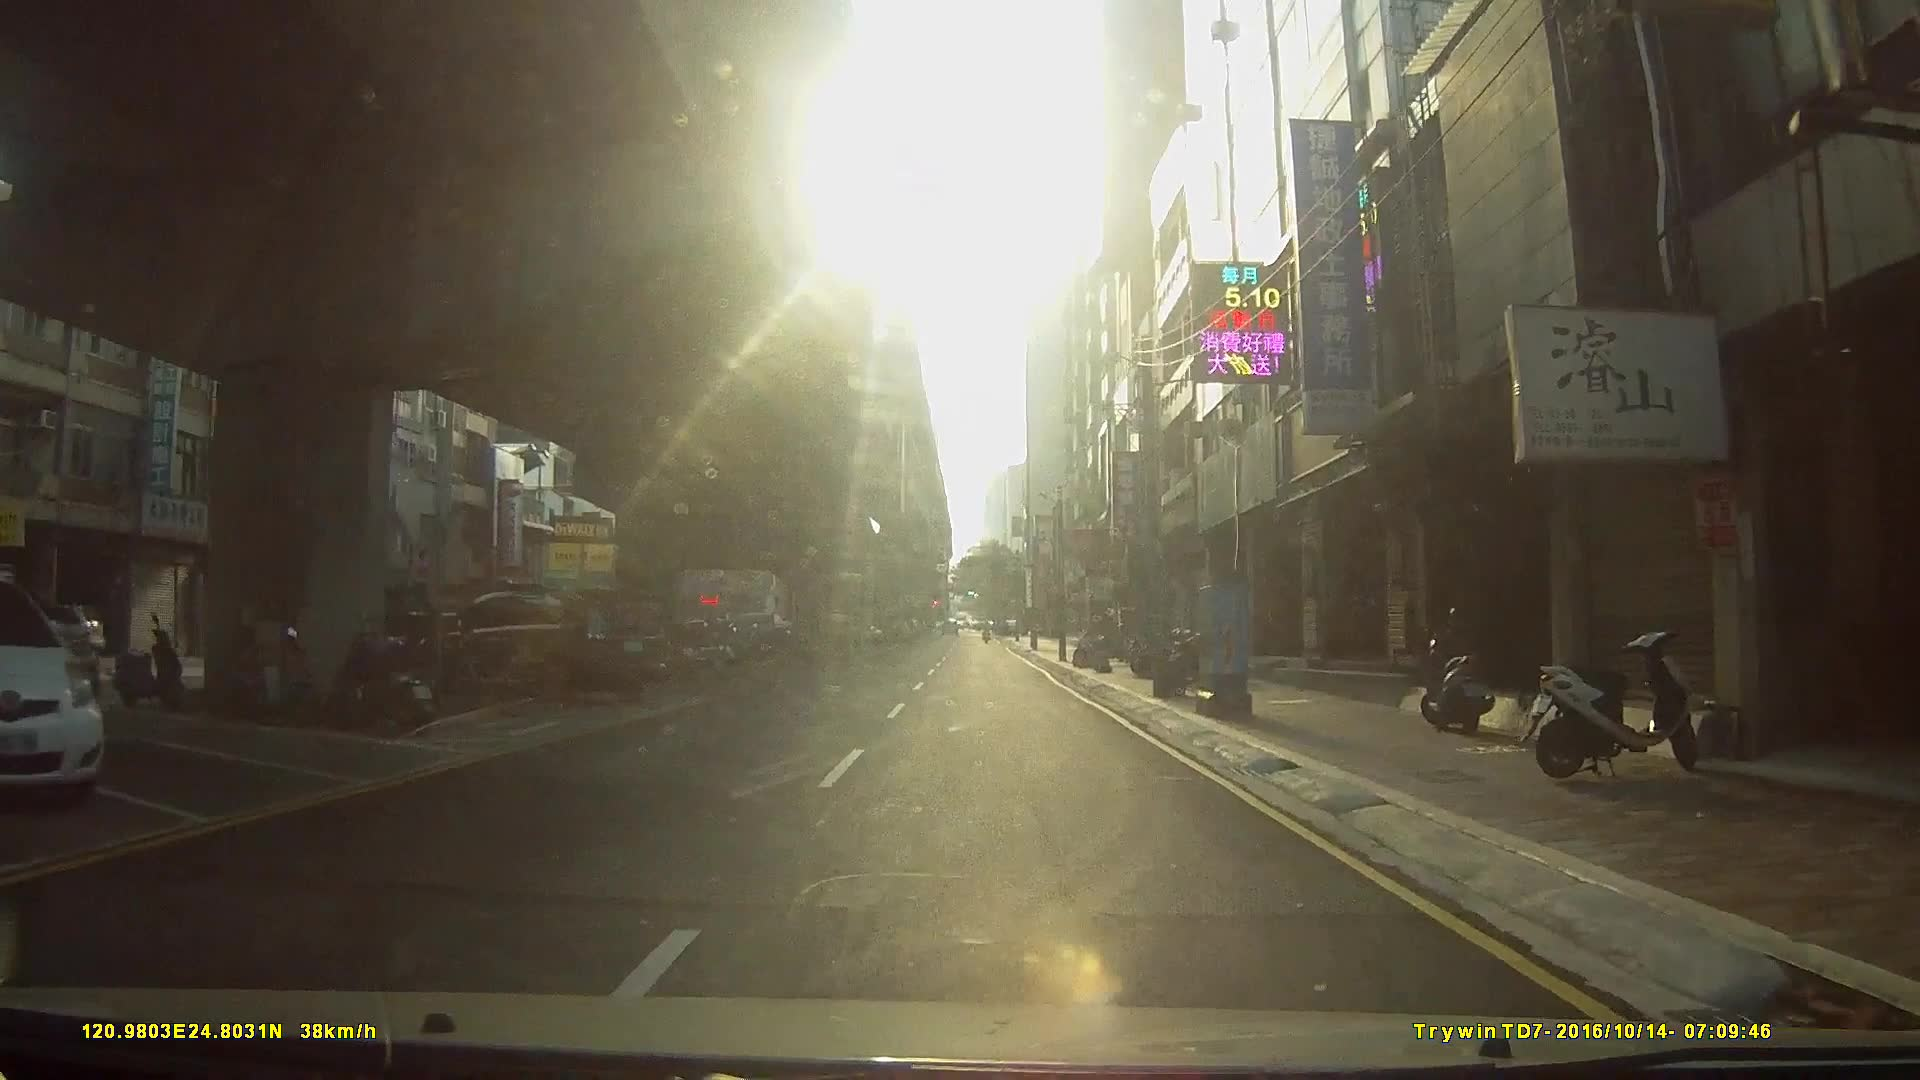vehicle: (425, 585, 669, 702), (0, 575, 105, 798), (608, 618, 732, 686), (26, 600, 104, 654)
